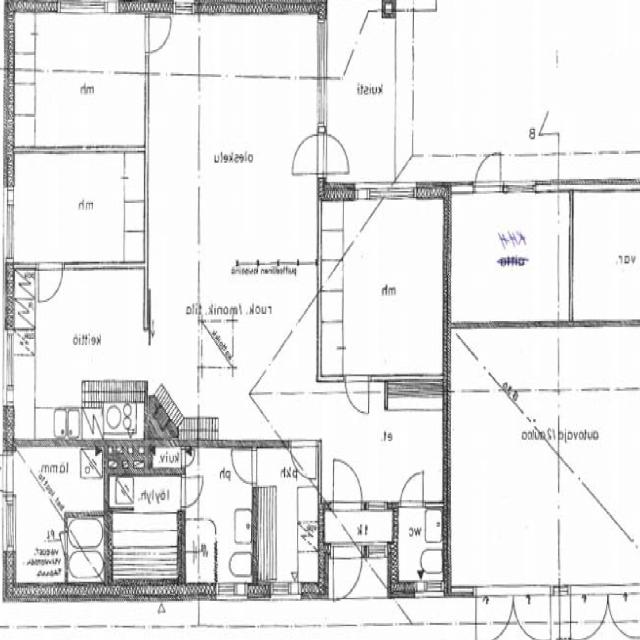door: (513, 590, 551, 640), (570, 590, 608, 640), (476, 590, 513, 640), (334, 542, 362, 600), (608, 590, 640, 640), (334, 457, 363, 511), (473, 142, 500, 194), (293, 134, 327, 173), (319, 134, 353, 173), (290, 439, 316, 486), (38, 264, 63, 307), (144, 16, 172, 52), (345, 375, 369, 417), (401, 468, 423, 507), (230, 450, 256, 482), (181, 477, 205, 507), (50, 532, 68, 554), (181, 449, 197, 466)
